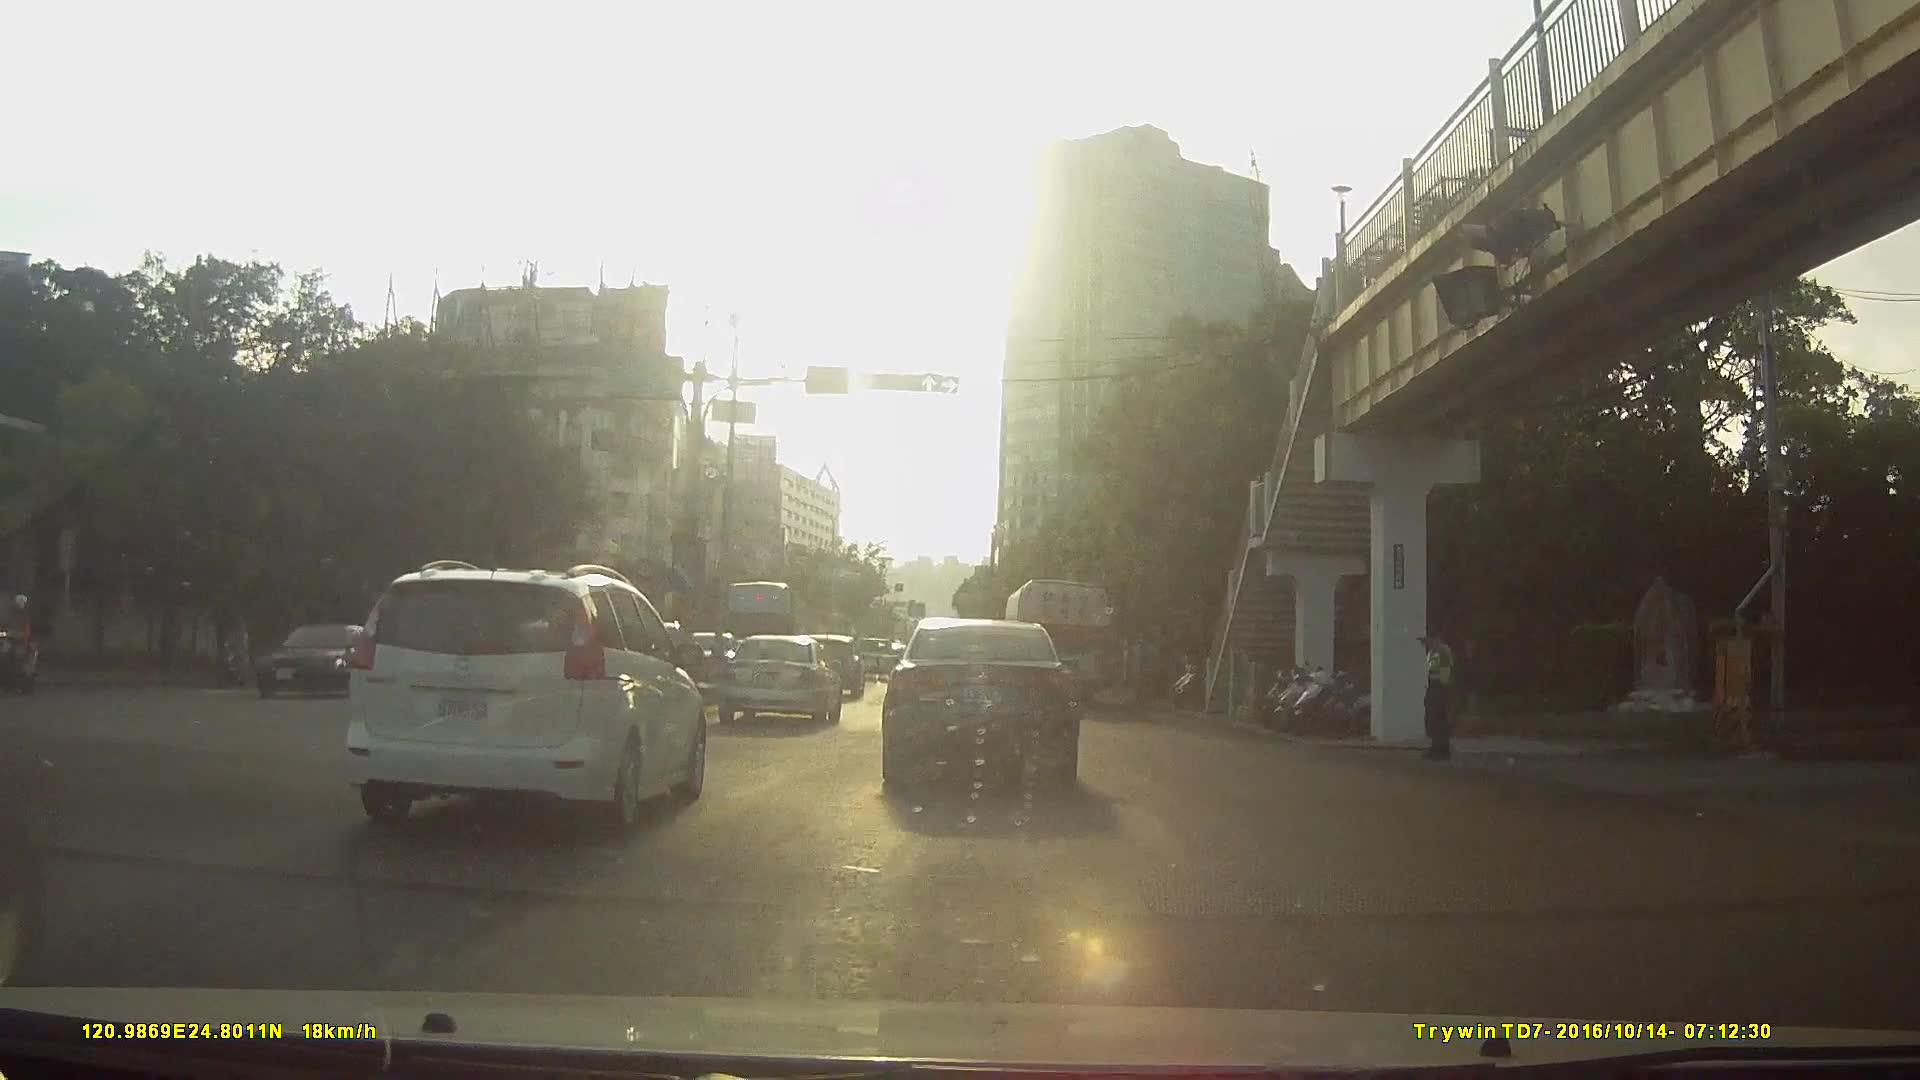pedestrian: (1417, 629, 1457, 764)
rider: (1, 595, 52, 691)
vehicle: (250, 556, 684, 868), (343, 555, 704, 831), (878, 612, 1077, 789), (227, 618, 398, 704), (999, 579, 1106, 707), (709, 632, 840, 727), (716, 578, 803, 668), (847, 635, 896, 684)
